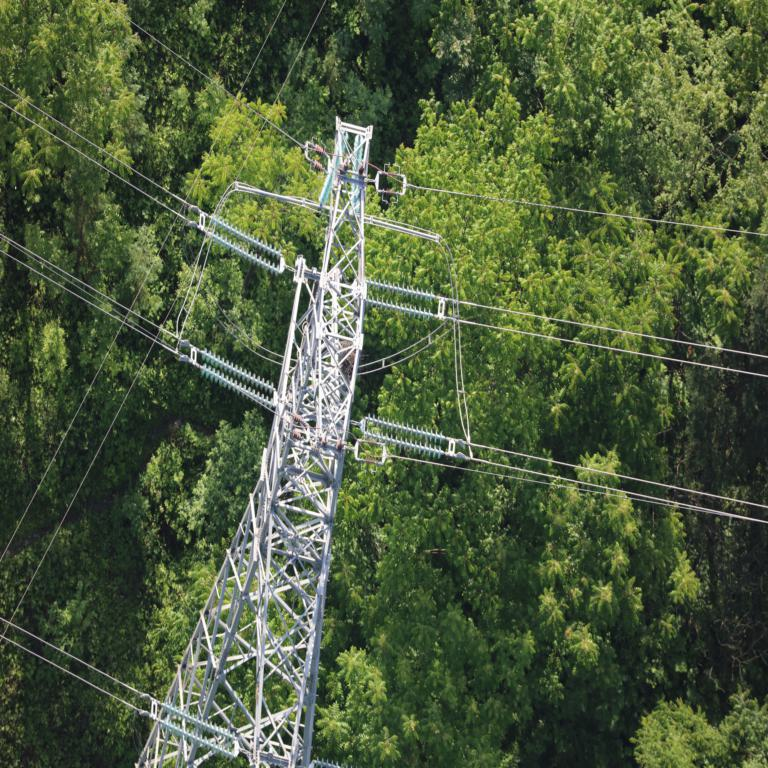nest: (336, 348, 357, 377)
